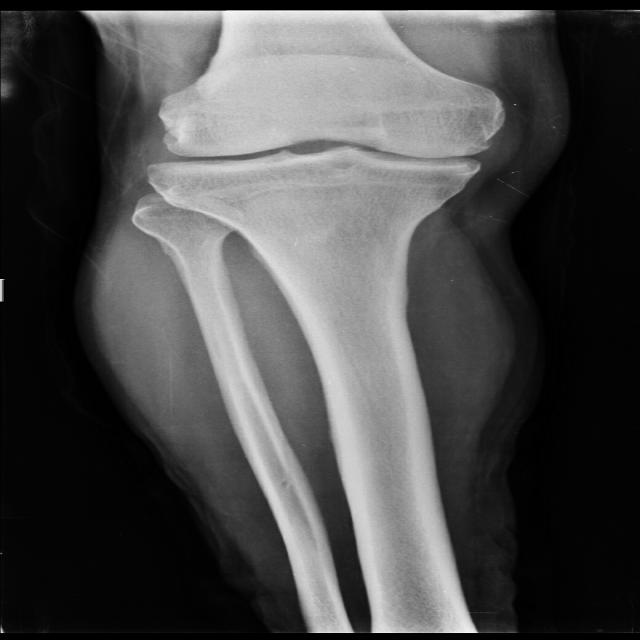normal: (139, 83, 511, 212)
